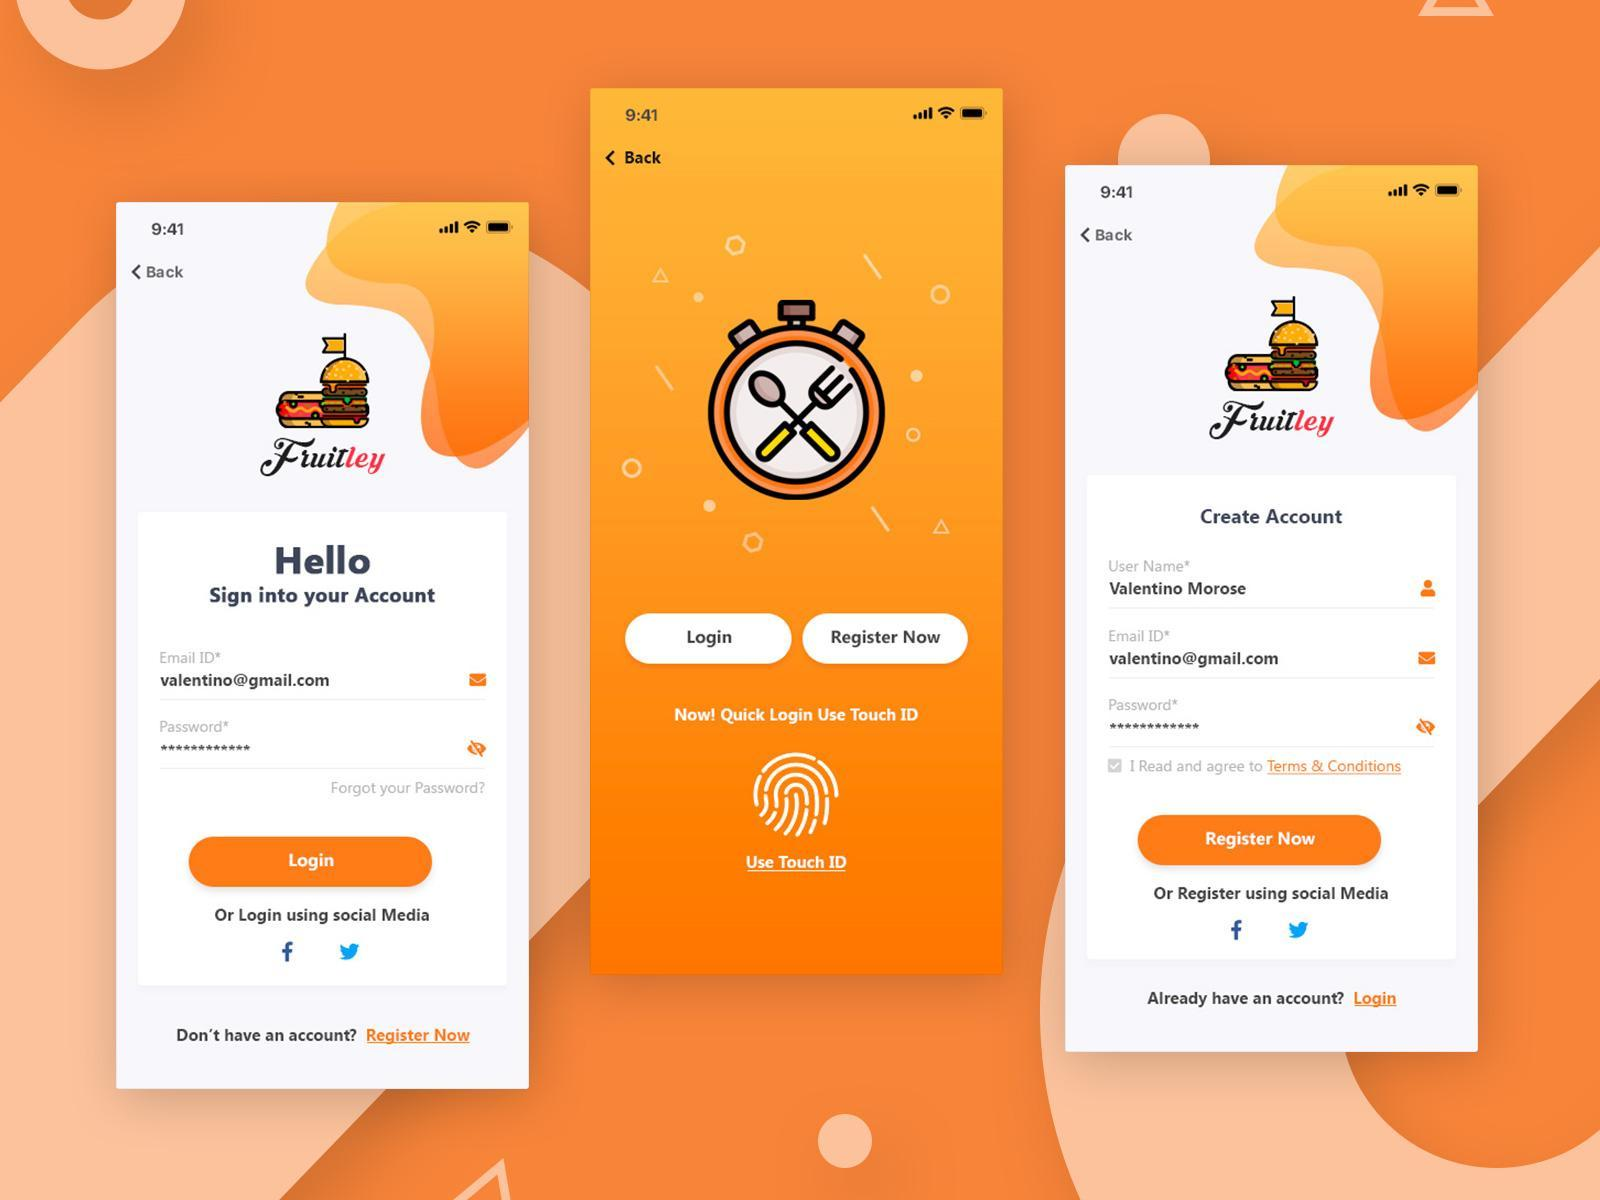button: (186, 836, 436, 891), (1138, 816, 1383, 868), (626, 614, 792, 666), (804, 614, 970, 666)
checkbox: (1107, 758, 1124, 773)
icon: (1419, 579, 1439, 600), (1416, 718, 1436, 737), (1419, 650, 1437, 668)
label: (1128, 758, 1406, 776), (745, 851, 850, 877), (1106, 558, 1196, 577), (156, 718, 232, 737), (1109, 697, 1180, 713), (1107, 628, 1172, 645), (159, 650, 224, 667)
